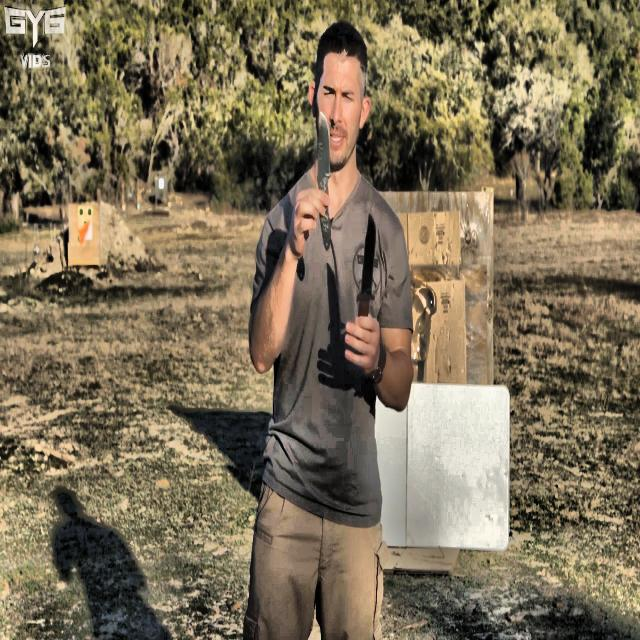knife: (318, 113, 332, 249), (358, 219, 376, 321)
